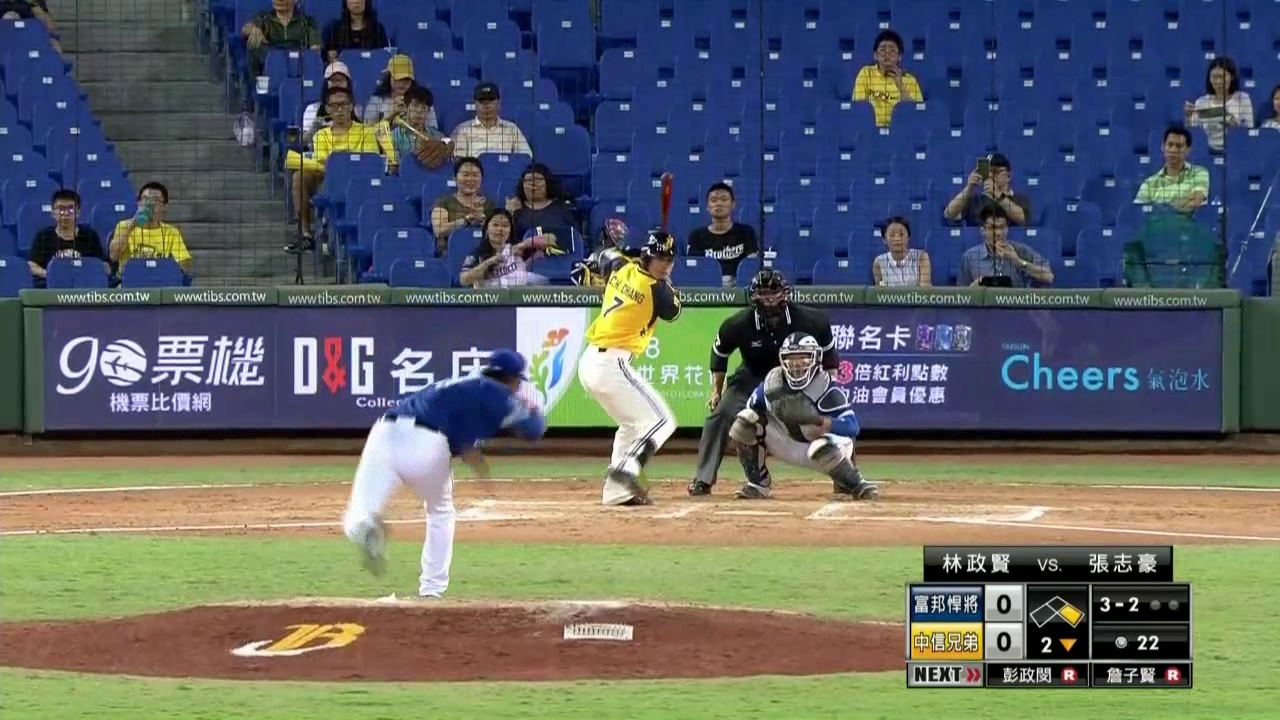ball: (513, 269, 531, 288)
base: (1026, 591, 1087, 629)
bat: (658, 167, 676, 262)
out: (1146, 587, 1186, 617)
score1: (988, 588, 1022, 618)
score2: (989, 627, 1019, 655)
session: (1026, 630, 1086, 659)
strikeball: (1093, 588, 1144, 621)
total: (1094, 628, 1185, 656)
